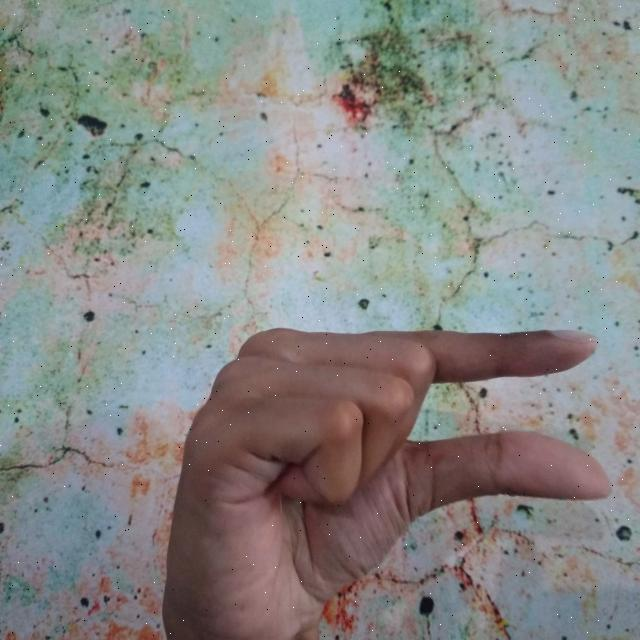G: (160, 309, 617, 640)
